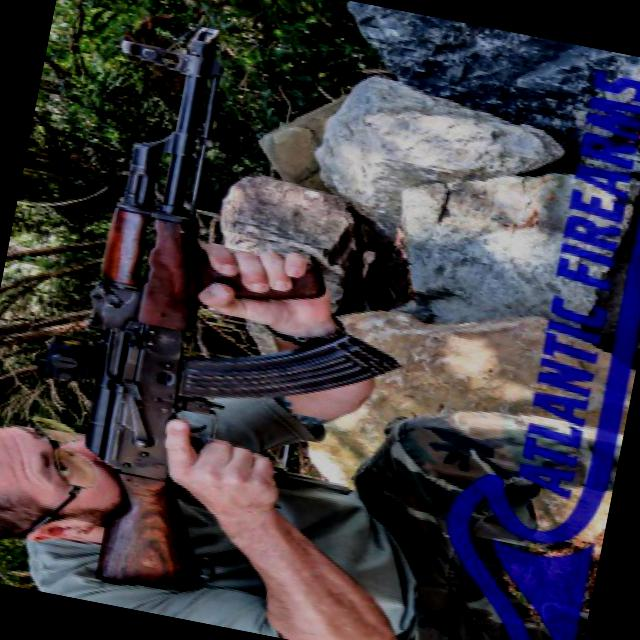long weapon: (30, 0, 456, 631)
